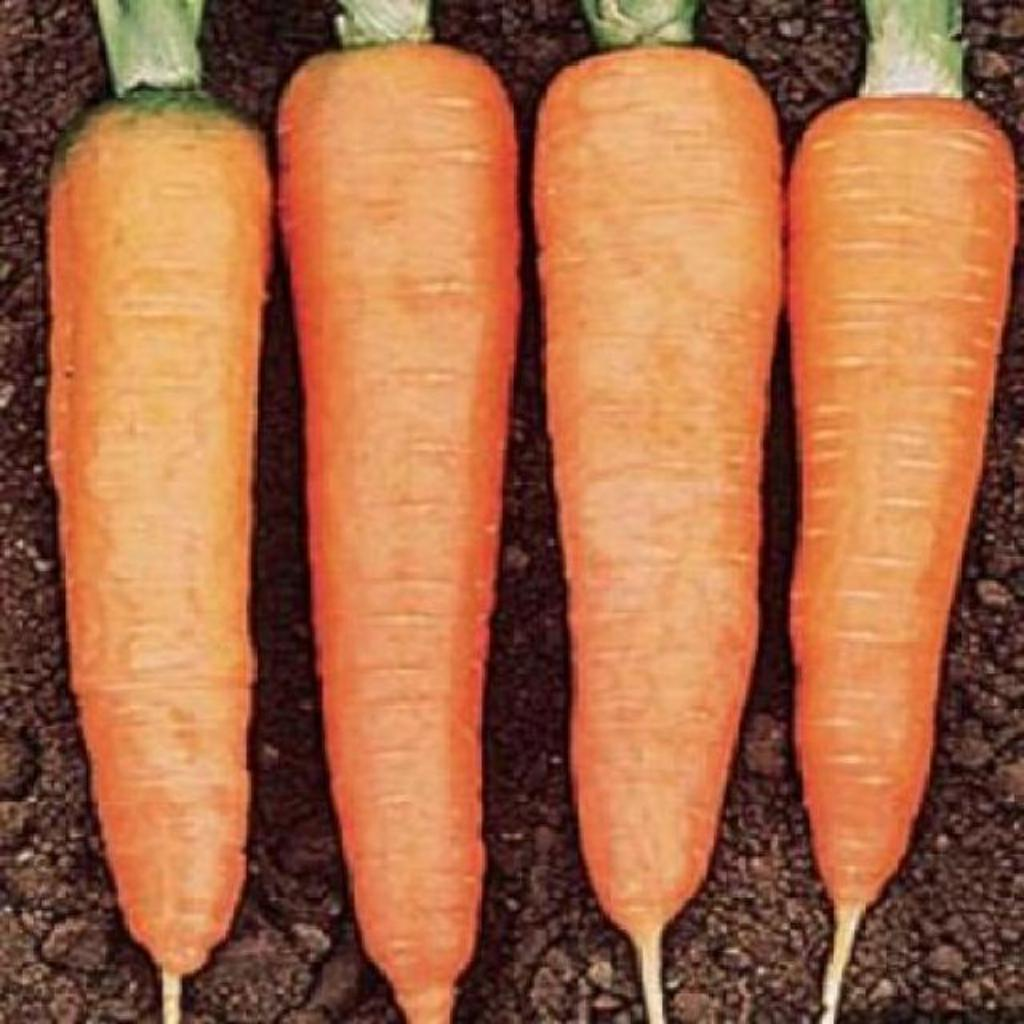carrot: (534, 0, 782, 1021), (280, 0, 516, 1024), (788, 0, 1016, 1024), (50, 0, 270, 1023)
